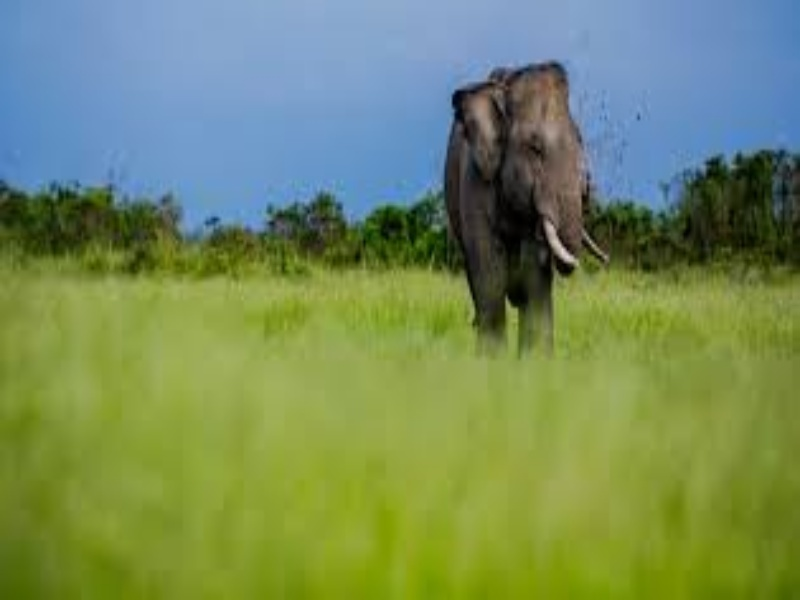elephant: (439, 40, 595, 378)
